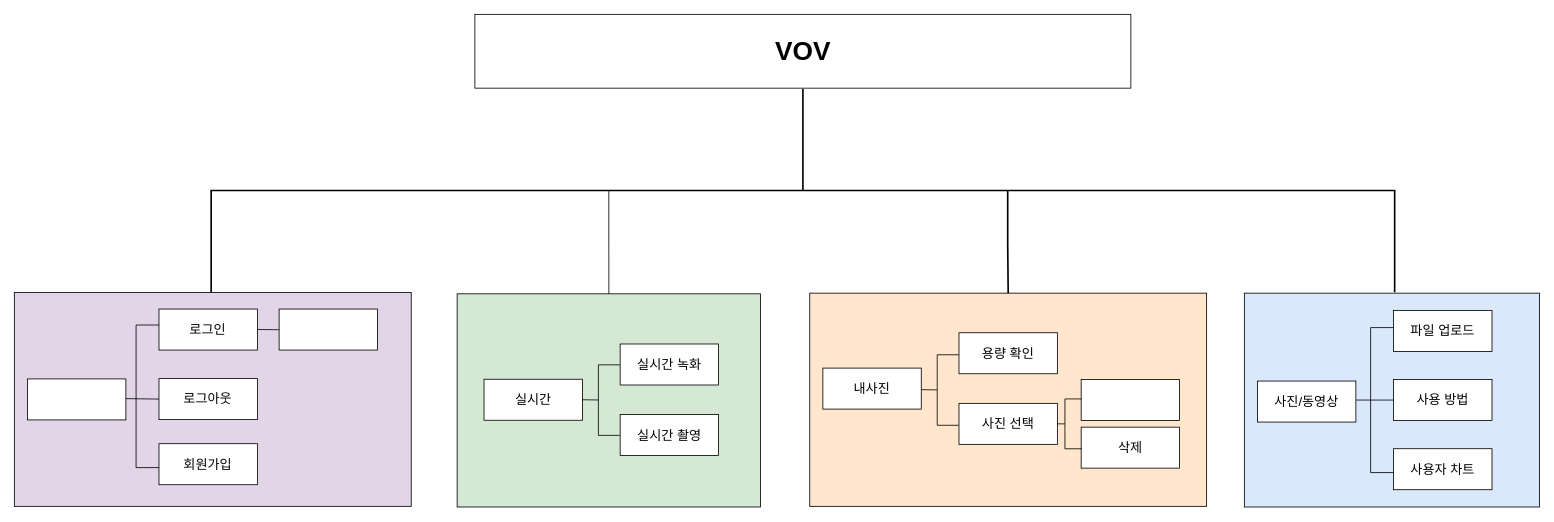
Image size: 1554x522. Some labels were removed from this diagram. The shapes that lost their labels are listed below. From the top down, each one's centre as x and y in pixels, then its label:
point (328, 329): 마이페이지
point (76, 399): 회원
point (1130, 400): 다운로드
